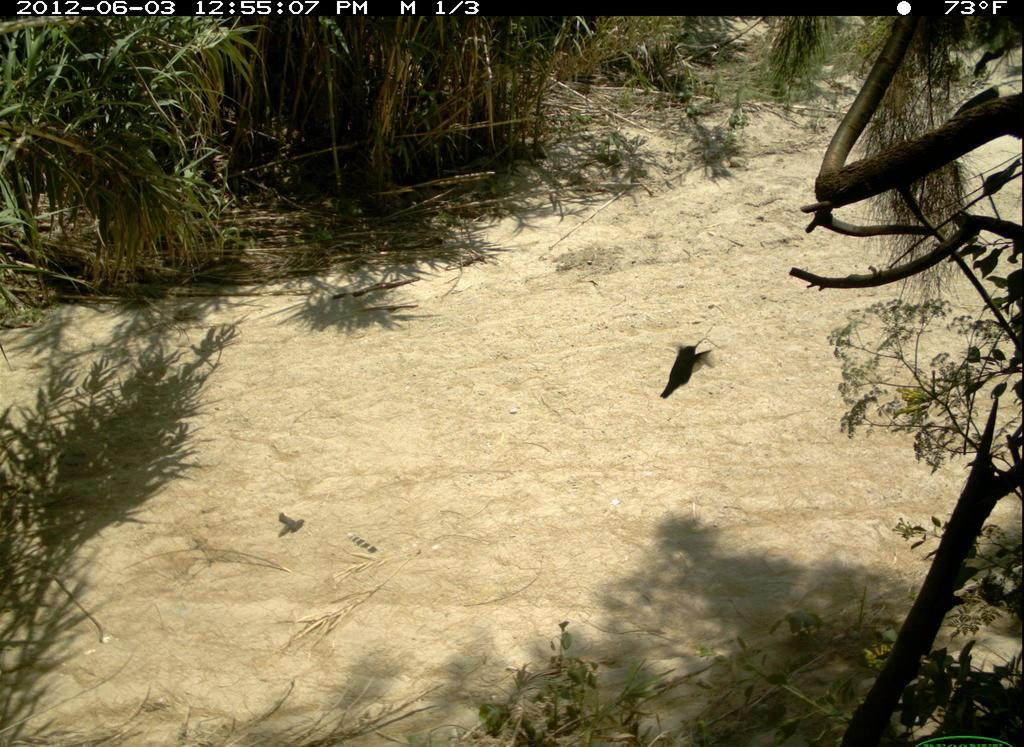bird: (654, 325, 722, 404)
